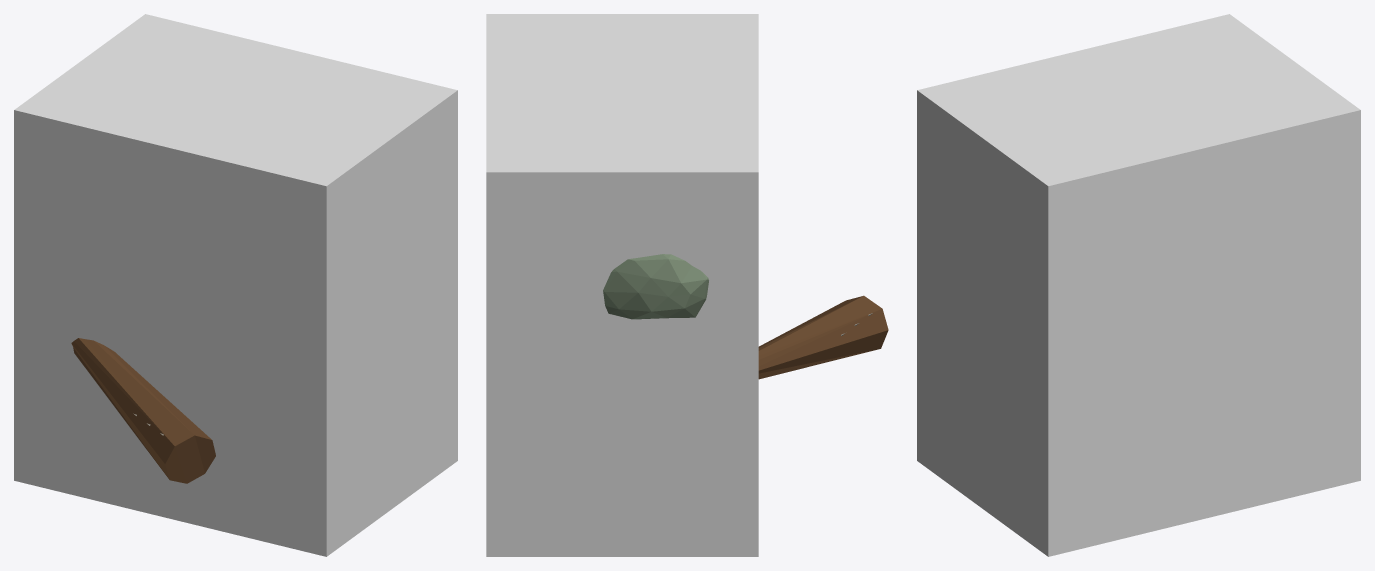
The model's file is plains_cave_troll.fbx.
3 renders of one model, left to right at view 1: azimuth 30°, elevation 25°; view 2: azimuth 150°, elevation 25°; view 3: azimuth 270°, elevation 25°, orthographic. The views are drawn at different scales.
Visible parts, largest first — view 1: Root__0.08_5.00_-2.33__6.42_10.00_8.82, ArmR__Torso__2.35_7.05_0.00; view 2: Root__0.08_5.00_-2.33__6.42_10.00_8.82, ArmR__Torso__2.35_7.05_0.00, Torso__Root__0.00_4.46_0.00; view 3: Root__0.08_5.00_-2.33__6.42_10.00_8.82.
Boxes of the visible parts, x1,y1,x2,y2 form: Root__0.08_5.00_-2.33__6.42_10.00_8.82: [14, 14, 457, 556]; ArmR__Torso__2.35_7.05_0.00: [71, 338, 215, 483]; Root__0.08_5.00_-2.33__6.42_10.00_8.82: [486, 14, 758, 556]; ArmR__Torso__2.35_7.05_0.00: [758, 295, 888, 379]; Torso__Root__0.00_4.46_0.00: [603, 254, 708, 319]; Root__0.08_5.00_-2.33__6.42_10.00_8.82: [917, 14, 1360, 556].
Size of the model in its own units: 279 by 281 by 304.
Materials: 1 (1 with a texture image).
